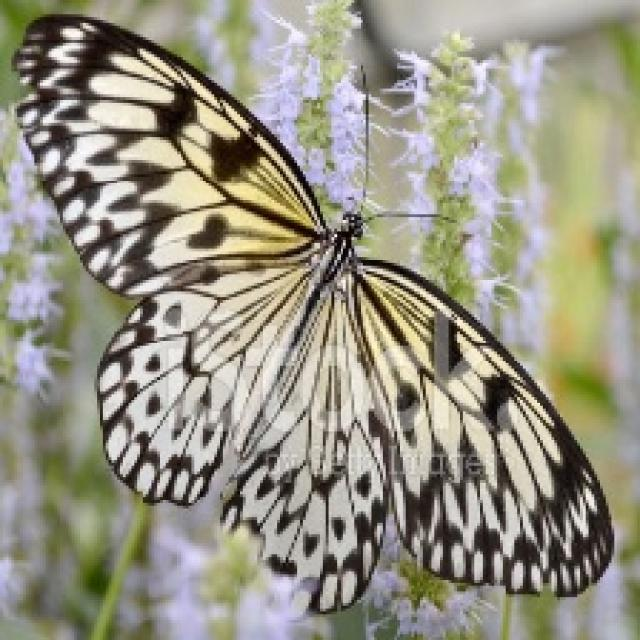butterfly: (9, 9, 614, 614)
